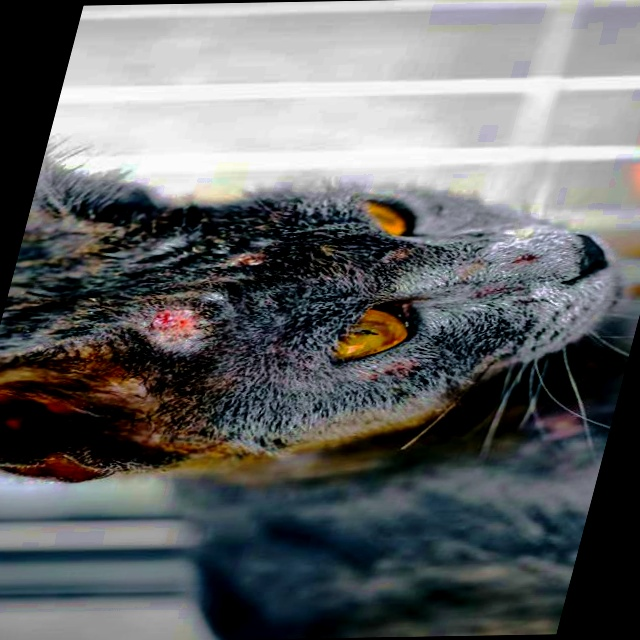ringworm: (144, 289, 232, 368), (228, 251, 268, 266)
